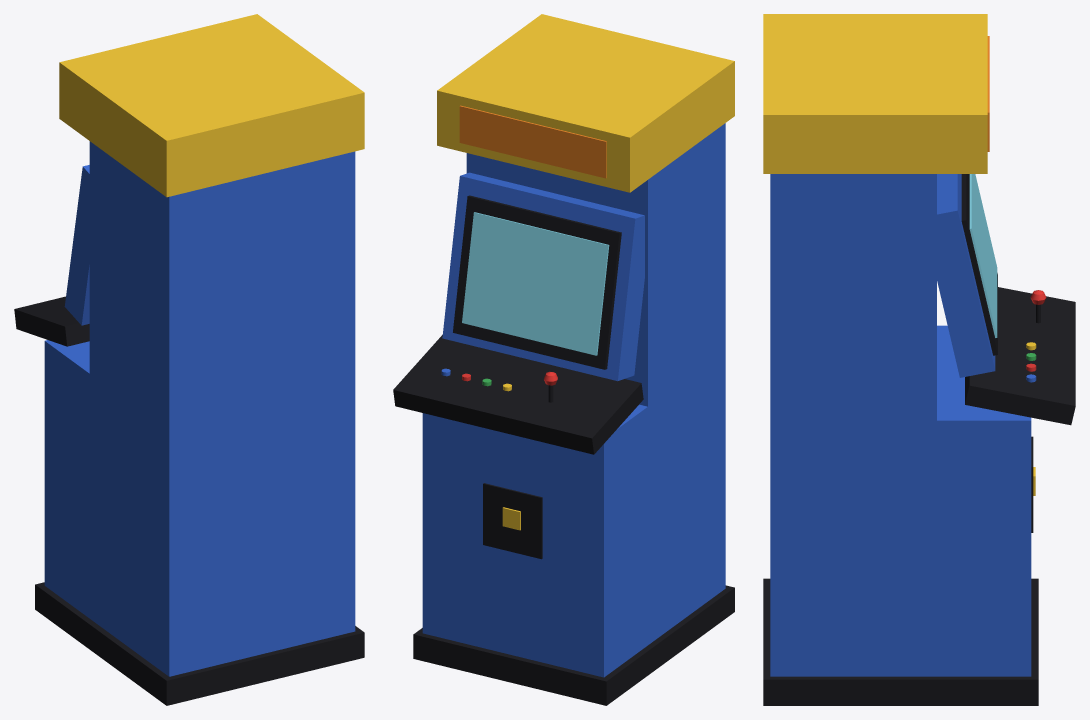
The model's file is Arcade_Upright.obj.
3 renders of one model, left to right at view 1: azimuth 30°, elevation 25°; view 2: azimuth 150°, elevation 25°; view 3: azimuth 270°, elevation 25°, orthographic. The views are drawn at different scales.
Parts seen in each view (by area): view 1: Arcade_Upright; view 2: Arcade_Upright; view 3: Arcade_Upright.
Boxes of the visible parts, x1,y1,x2,y2 form: Arcade_Upright: (14,14,364,705); Arcade_Upright: (393,14,734,705); Arcade_Upright: (763,14,1075,705).
Bounding box in the file's own units: 0.68 × 1.8 × 0.863.
